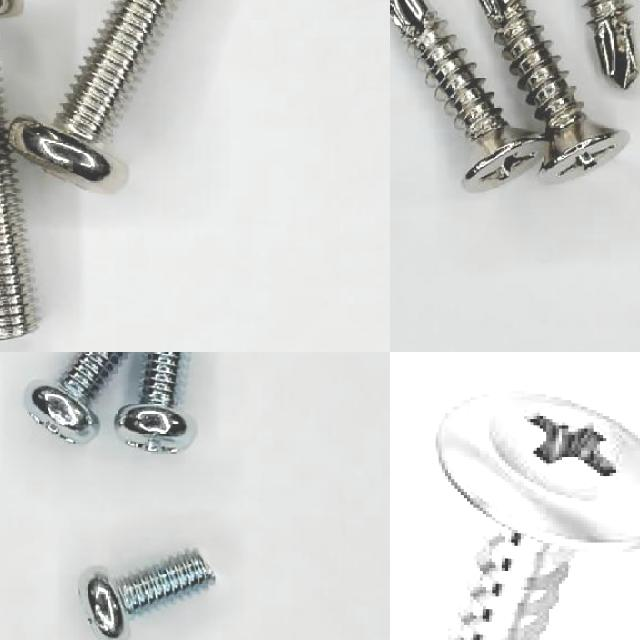Screw: (435, 391, 640, 640), (10, 0, 172, 193), (390, 0, 544, 191), (478, 0, 630, 178), (80, 551, 215, 640), (27, 352, 130, 442), (0, 94, 36, 340), (115, 352, 196, 452), (586, 0, 639, 88)
